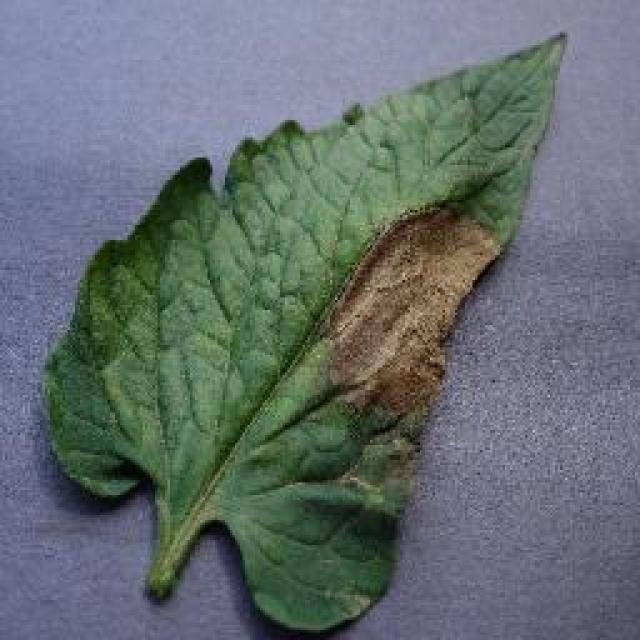Tomato Late Blight: (295, 202, 527, 430)
